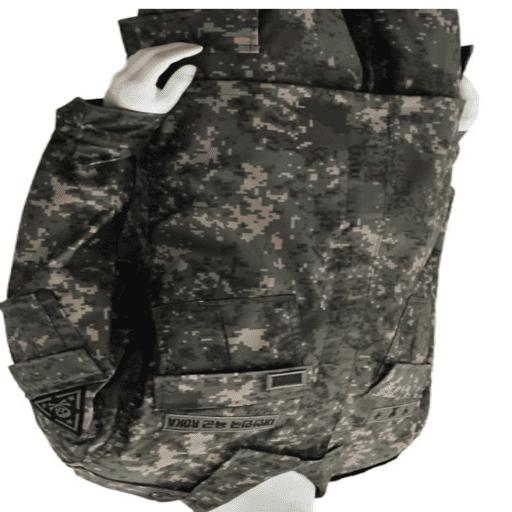korea army: (0, 7, 478, 511)
